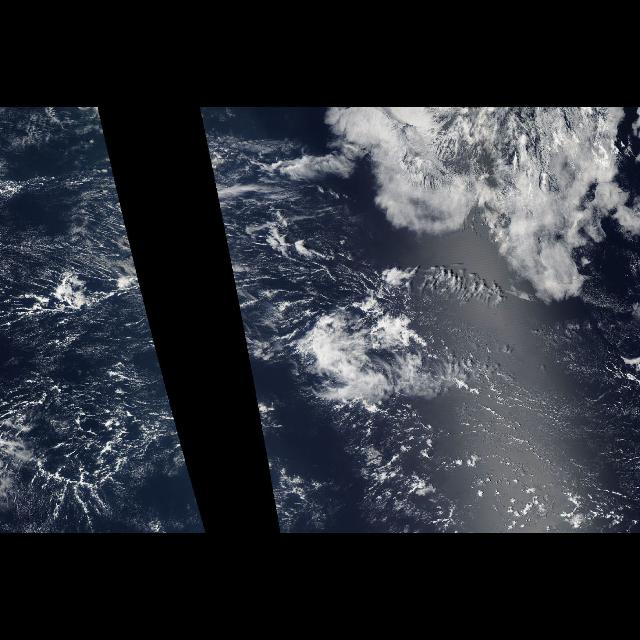Gravel: (6, 341, 188, 533)
Sugar: (474, 367, 640, 505), (2, 136, 138, 302)
